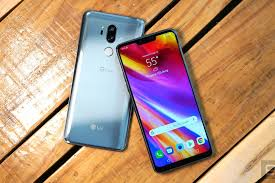lg: (60, 8, 151, 154)
